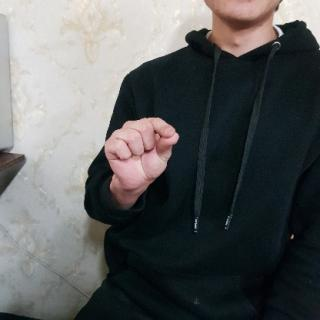FAA: (101, 111, 183, 200)
